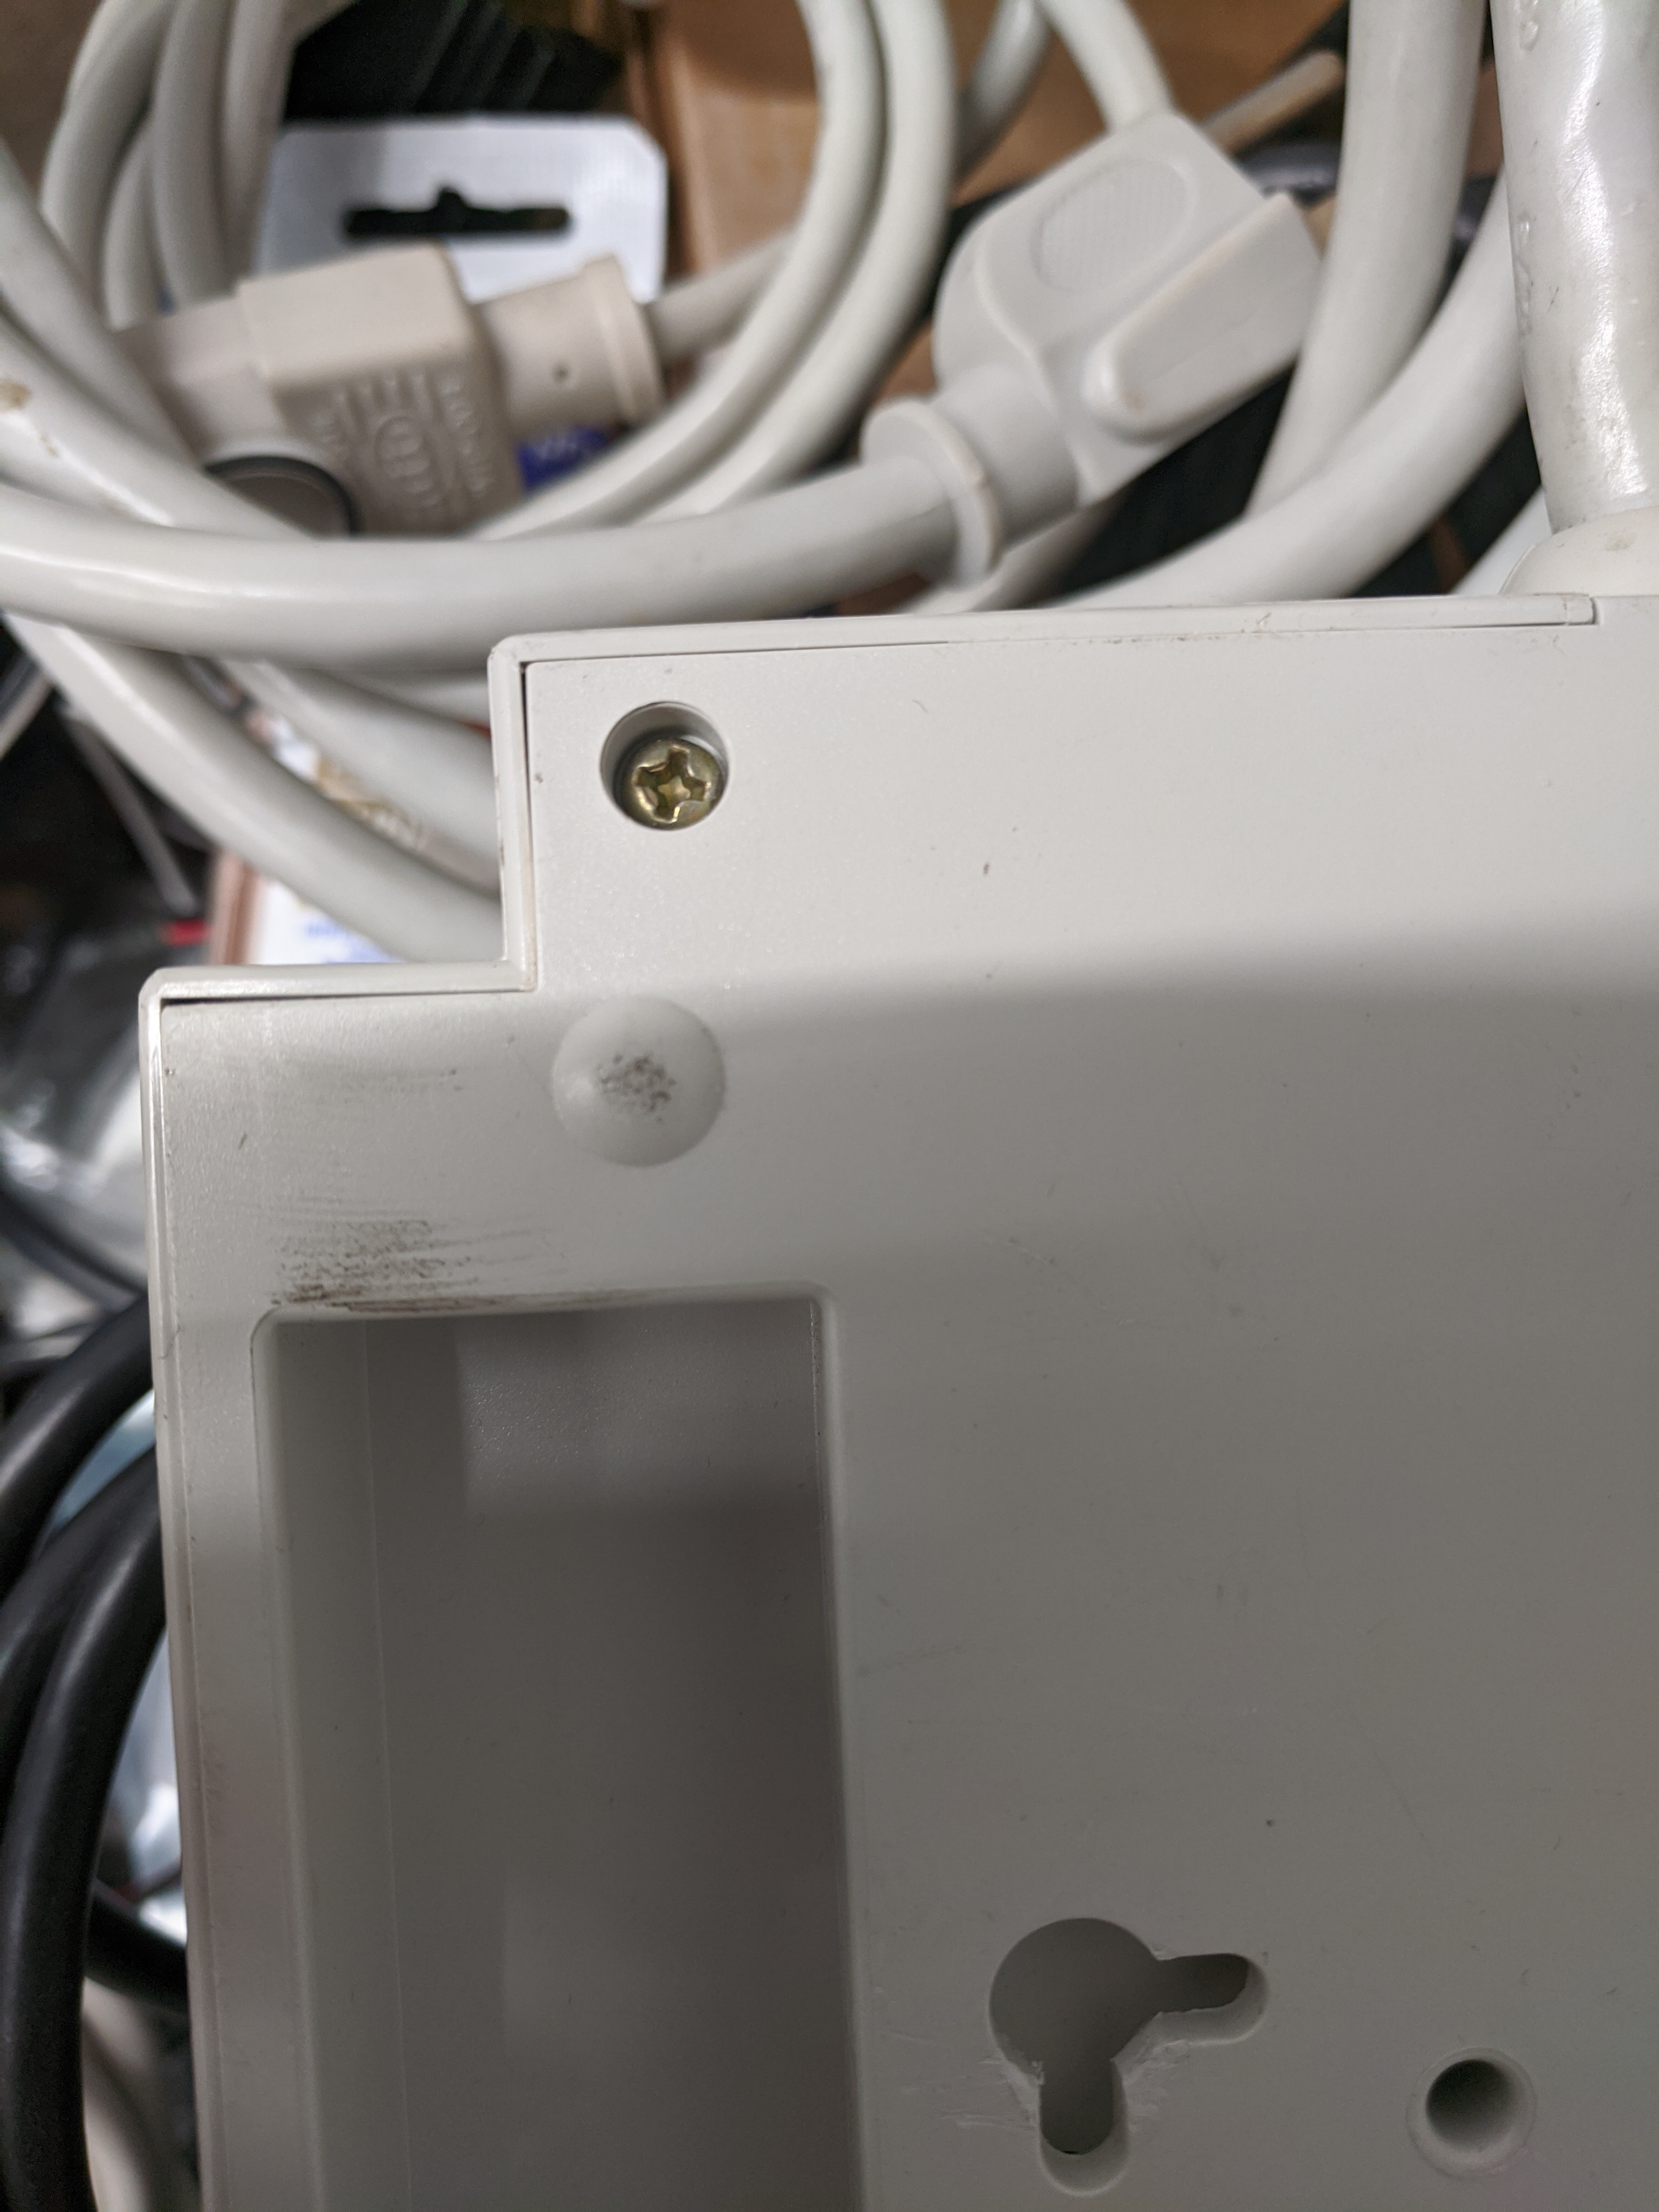cross_recessed_screw: (594, 714, 735, 841)
